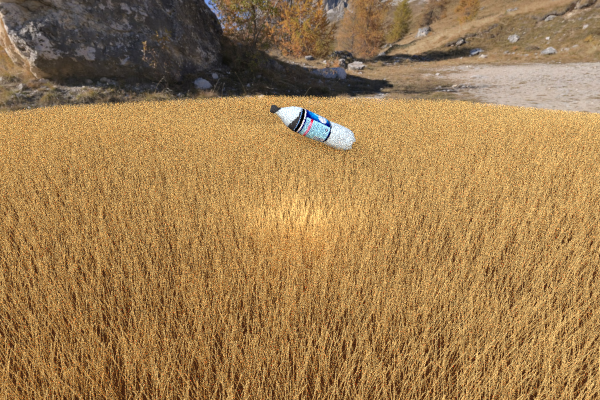Plastic Bottle: (269, 104, 355, 151), (54, 119, 122, 154), (501, 118, 563, 144)
